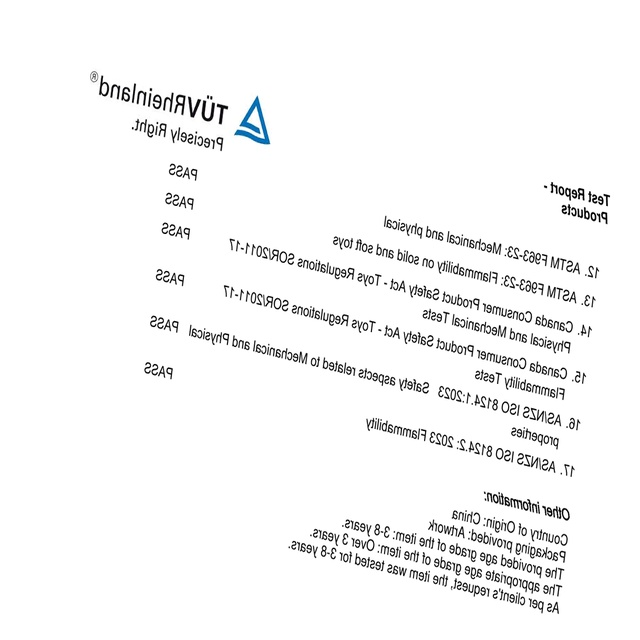tuv_rheinland: (88, 70, 272, 155)
